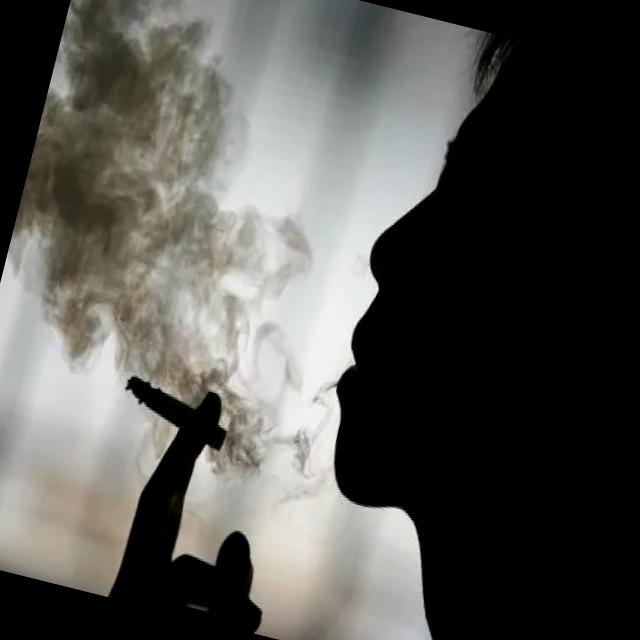smoke: (113, 371, 235, 450)
